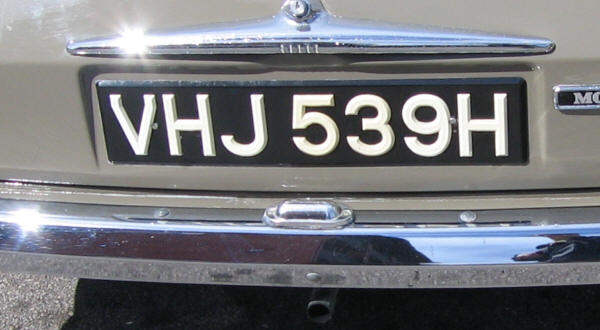license_plate: (95, 79, 532, 167)
